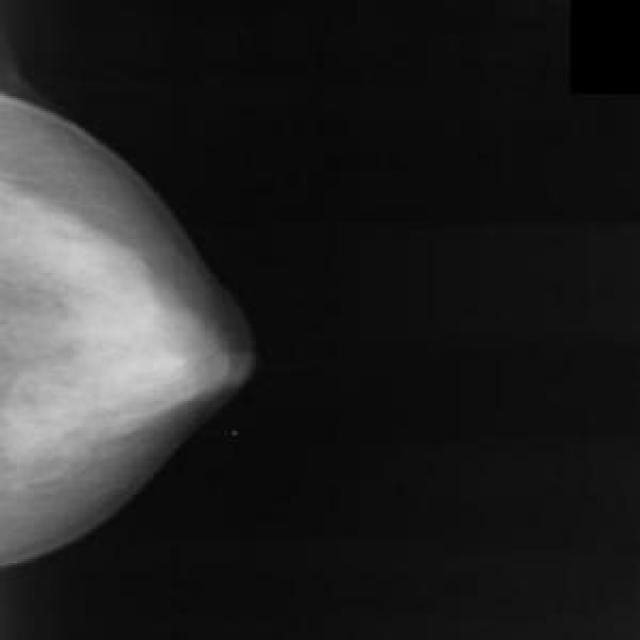tumor: (56, 226, 208, 424)
